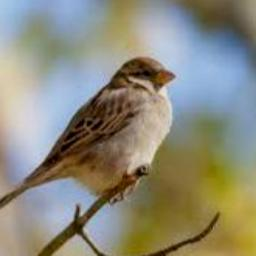Sparrow: (0, 55, 177, 214)
